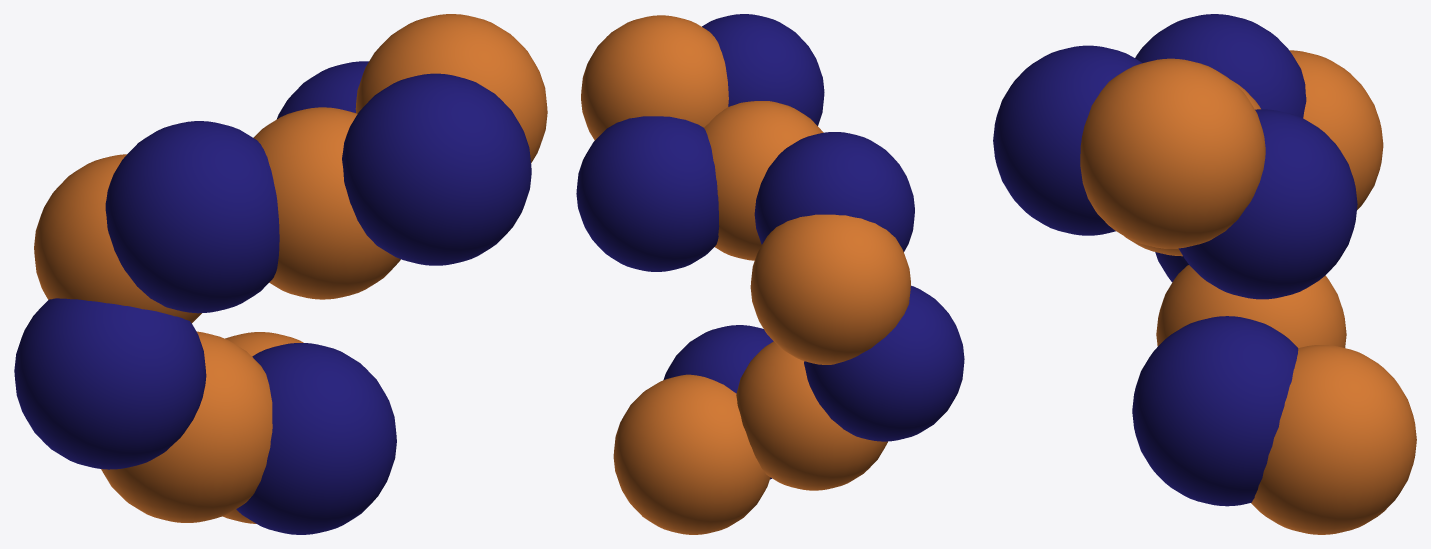
File: molecule.glb
3 views of the same model, side by side, from view 1: azimuth 30°, elevation 25°; view 2: azimuth 150°, elevation 25°; view 3: azimuth 270°, elevation 25° (orthographic). The views are drawn at different scales.
Visible parts, largest first — view 1: Sphere.008, Sphere.004, Sphere.001, Sphere.009, Sphere, Sphere.005, Sphere.007, Sphere.002, Sphere.006, Sphere.010; view 2: Sphere.002, Sphere.010, Sphere.006, Sphere.001, Sphere.007, Sphere, Sphere.004, Sphere.005, Sphere.008, Sphere.009; view 3: Sphere.007, Sphere.009, Sphere.010, Sphere.006, Sphere.008, Sphere.004, Sphere, Sphere.002, Sphere.001.
Part boxes in pixels (x1,y1,x2,y2): Sphere.008: [342, 73, 531, 265]; Sphere.004: [105, 121, 279, 313]; Sphere.001: [14, 298, 206, 469]; Sphere.009: [236, 343, 396, 534]; Sphere: [101, 331, 272, 522]; Sphere.005: [253, 107, 400, 299]; Sphere.007: [355, 14, 547, 163]; Sphere.002: [34, 154, 201, 323]; Sphere.006: [276, 61, 368, 119]; Sphere.010: [223, 332, 303, 523]; Sphere.002: [750, 214, 910, 364]; Sphere.010: [613, 374, 770, 534]; Sphere.006: [576, 116, 719, 271]; Sphere.001: [804, 285, 964, 441]; Sphere.007: [581, 15, 728, 140]; Sphere: [736, 341, 887, 490]; Sphere.004: [754, 132, 914, 251]; Sphere.005: [704, 101, 823, 260]; Sphere.008: [702, 14, 824, 125]; Sphere.009: [663, 325, 773, 479]; Sphere.007: [1080, 58, 1265, 248]; Sphere.009: [1132, 316, 1298, 506]; Sphere.010: [1251, 345, 1416, 534]; Sphere.006: [1178, 109, 1357, 299]; Sphere.008: [993, 45, 1142, 235]; Sphere.004: [1135, 14, 1306, 118]; Sphere: [1156, 265, 1346, 347]; Sphere.002: [1289, 50, 1383, 209]; Sphere.001: [1155, 252, 1188, 282].
Size of the model in its own units: 17.28 by 18.24 by 13.62.
